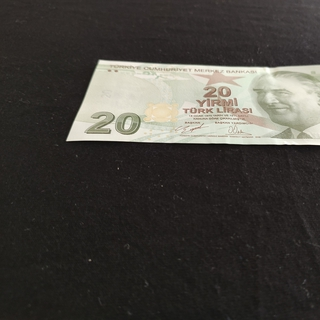20TLFront: (65, 59, 320, 148)
